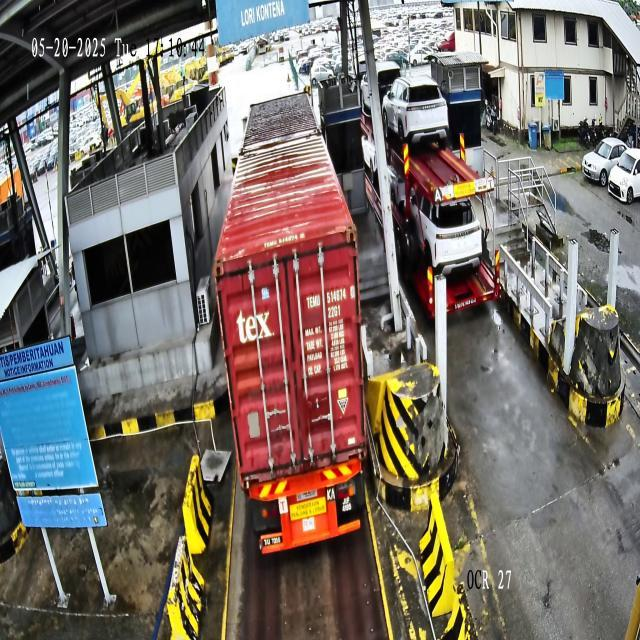ISO: (328, 304, 340, 319)
container_number: (306, 285, 354, 310)
